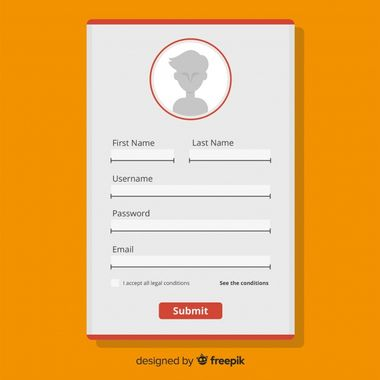_form_: (1, 1, 380, 380)
button: (157, 301, 226, 320)
checkbox: (110, 278, 118, 286)
field: (109, 209, 271, 234), (108, 246, 272, 270), (109, 175, 272, 199), (187, 138, 273, 163), (109, 138, 176, 165)
